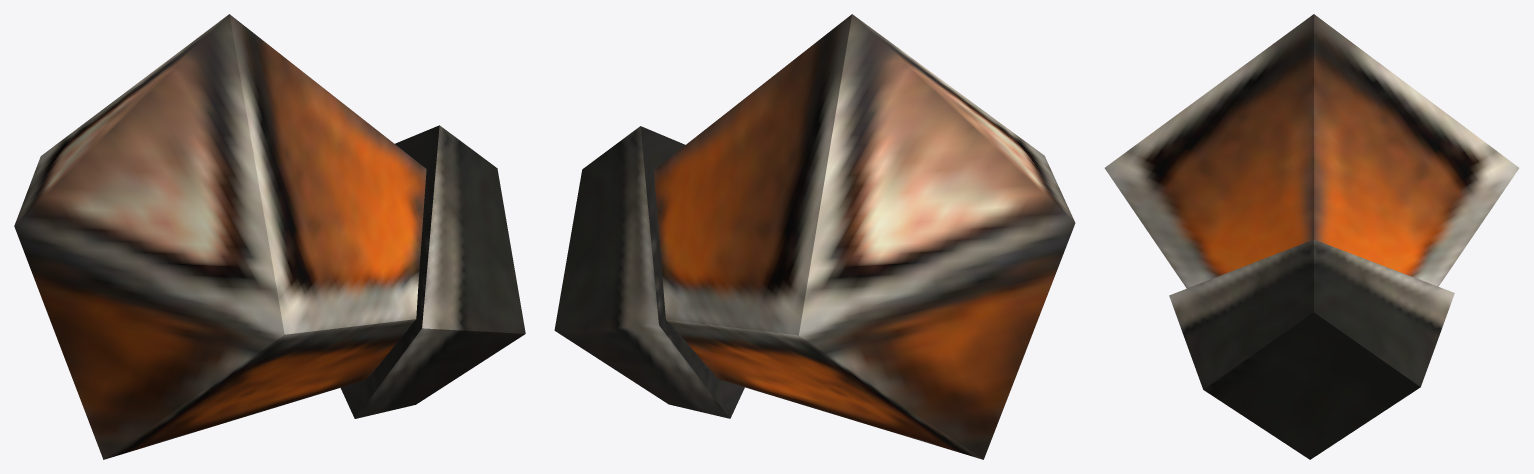
The model's file is shoulie_tail_default.FBX.
The picture shows the model from 3 angles, left to right: view 1: azimuth 30°, elevation 25°; view 2: azimuth 150°, elevation 25°; view 3: azimuth 270°, elevation 25°; orthographic projection. The views are drawn at different scales.
Visible parts, largest first — view 1: shoulie_tail_default; view 2: shoulie_tail_default; view 3: shoulie_tail_default.
Part boxes in pixels (x1,y1,x2,y2): shoulie_tail_default: (14, 14, 525, 459); shoulie_tail_default: (554, 14, 1075, 459); shoulie_tail_default: (1104, 14, 1519, 459).
Bounding box in the file's own units: 8.58 × 7.32 × 7.45.
Materials: 1 (1 with a texture image).
